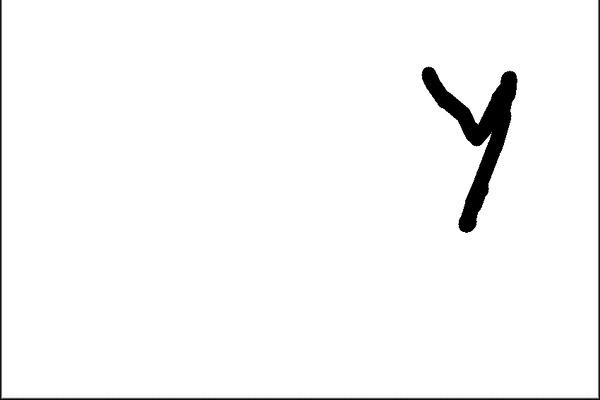Y: (411, 55, 515, 237)
